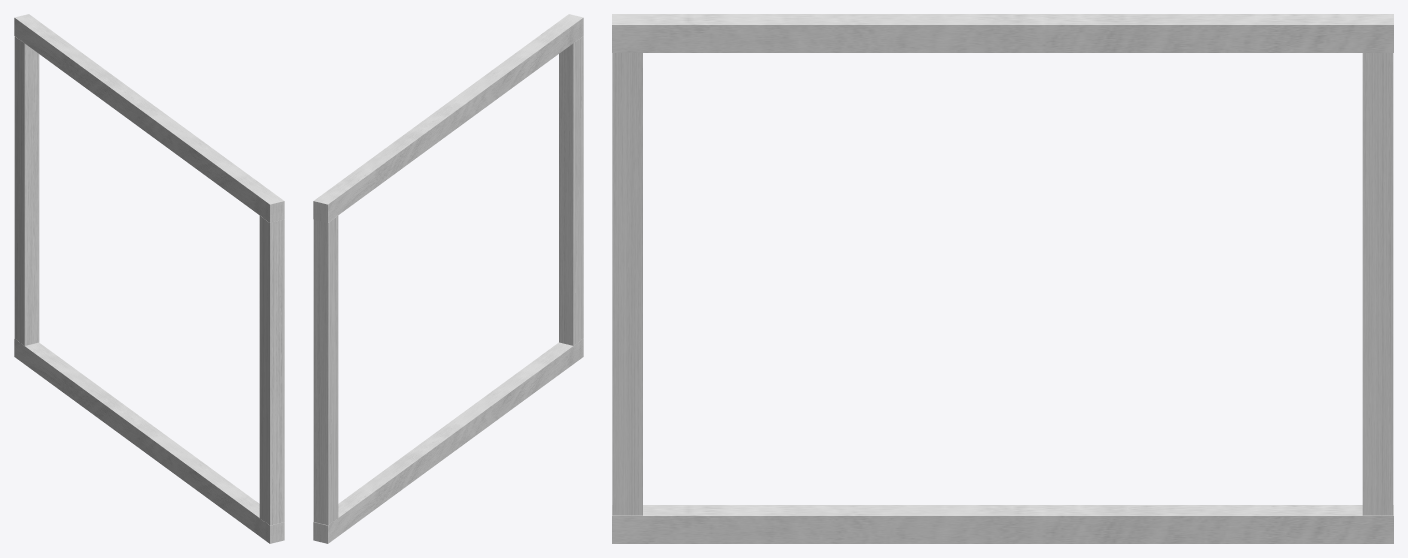
Rendered from MarcoVentanaTrasera1.obj.
The picture shows the model from 3 angles, left to right: view 1: azimuth 30°, elevation 25°; view 2: azimuth 150°, elevation 25°; view 3: azimuth 270°, elevation 25°; orthographic projection. The views are drawn at different scales.
Visible parts, largest first — view 1: MarcoVentanaTrasera; view 2: MarcoVentanaTrasera; view 3: MarcoVentanaTrasera.
Part boxes in pixels (x1,y1,x2,y2): MarcoVentanaTrasera: [14, 14, 284, 543]; MarcoVentanaTrasera: [313, 14, 583, 543]; MarcoVentanaTrasera: [612, 14, 1393, 543].
Size of the model in its own units: 0.2502 by 5.56 by 7.59.
1 material, 1 textured.
